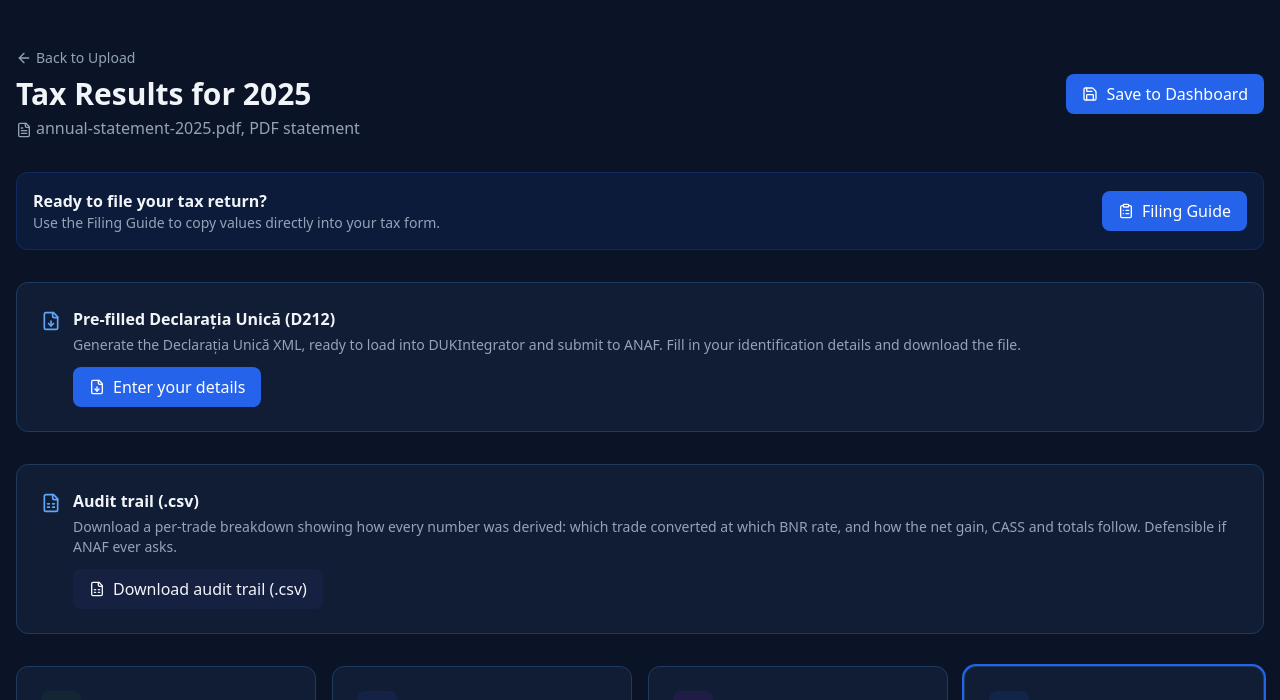
Test: ResultsPage › shows error when save fails
Click the button "Save to Dashboard".
click(1165, 94)  # box [1066,74,1264,114]
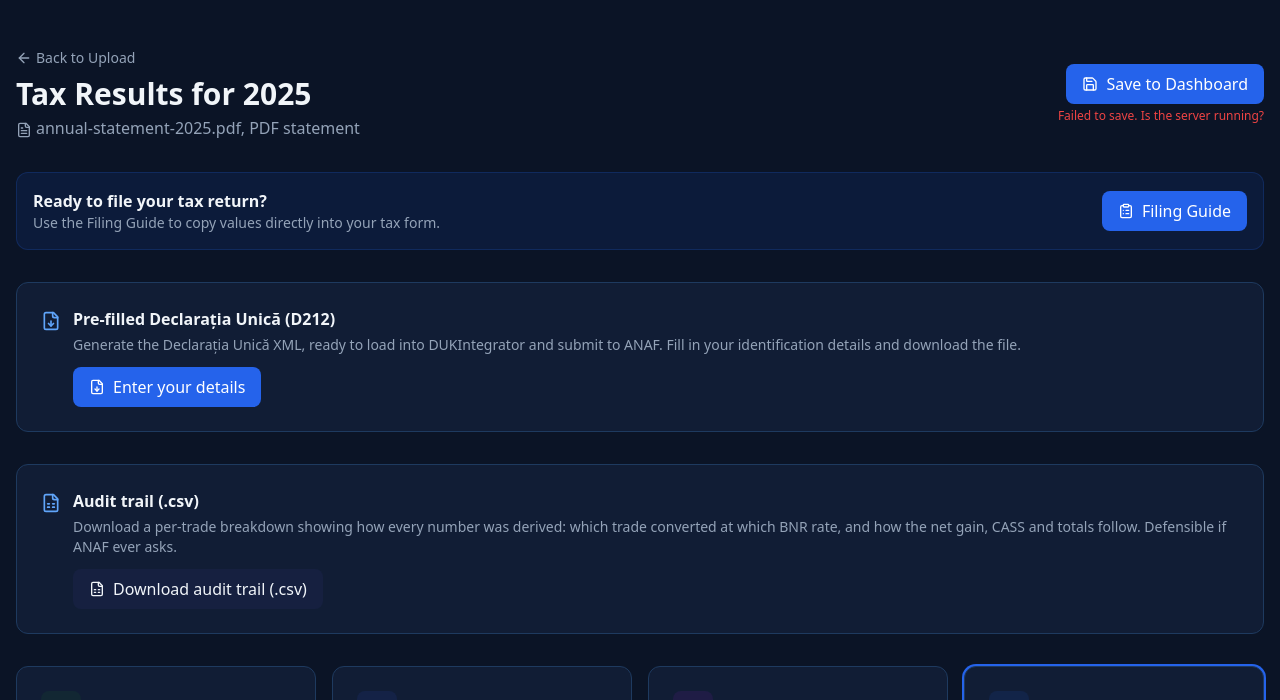
Check: the text "Failed to save. Is the server running?" is shown, box [1058,108,1264,124]
